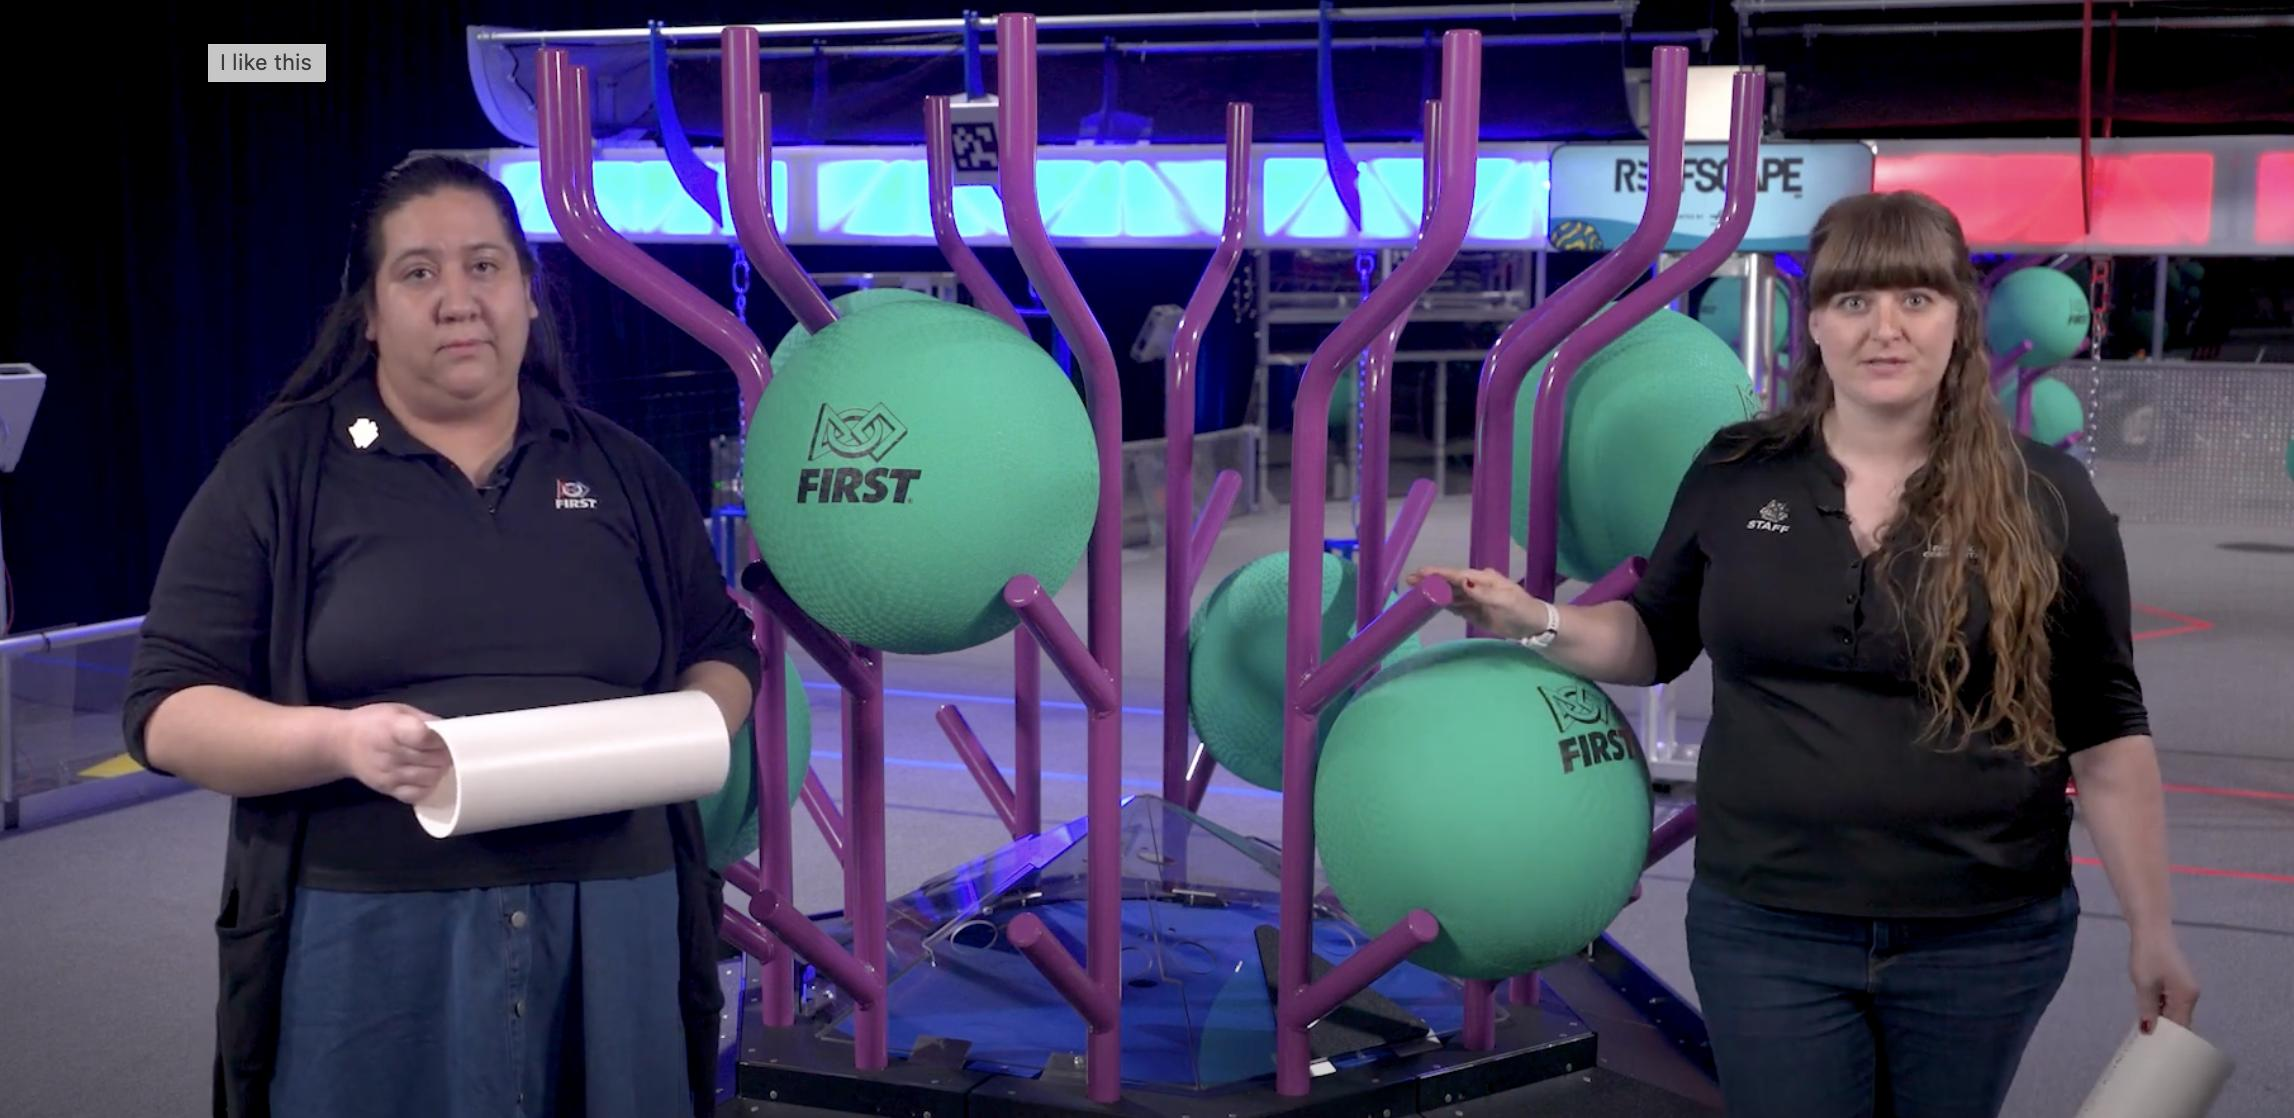ALGAE: (737, 288, 1102, 656), (1311, 637, 1655, 982), (1172, 544, 1429, 802), (1982, 263, 2088, 370)
